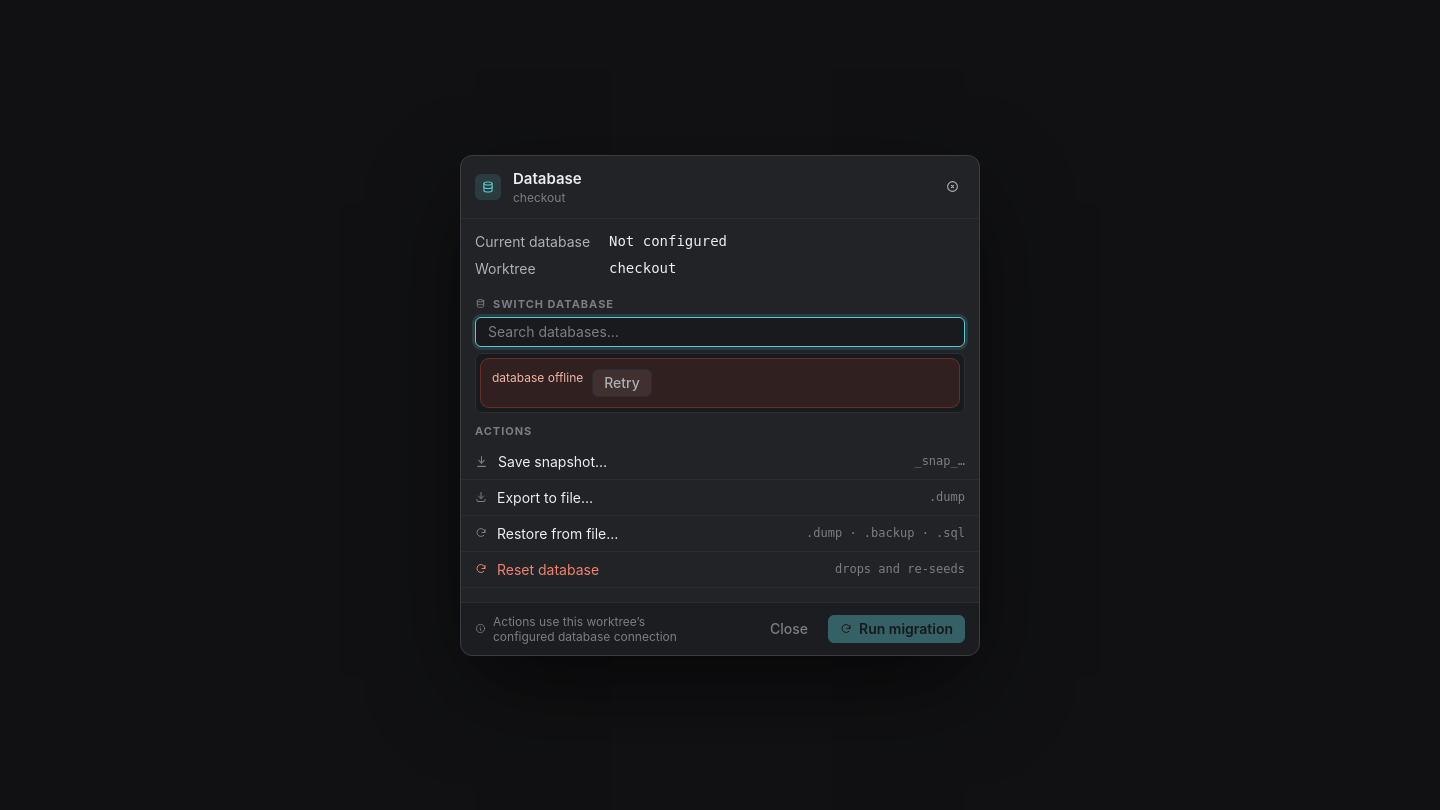
Scenario: keeps database actions disabled on a read failure and allows retry
This screenshot has width=1440, height=810.
expect the message "database offline Retry" is shown: met, box [480, 358, 960, 408]
expect the button "Run migration" is disabled: met, box [828, 614, 965, 642]
Click the button "Retry".
click(622, 382)  # box [592, 368, 652, 396]
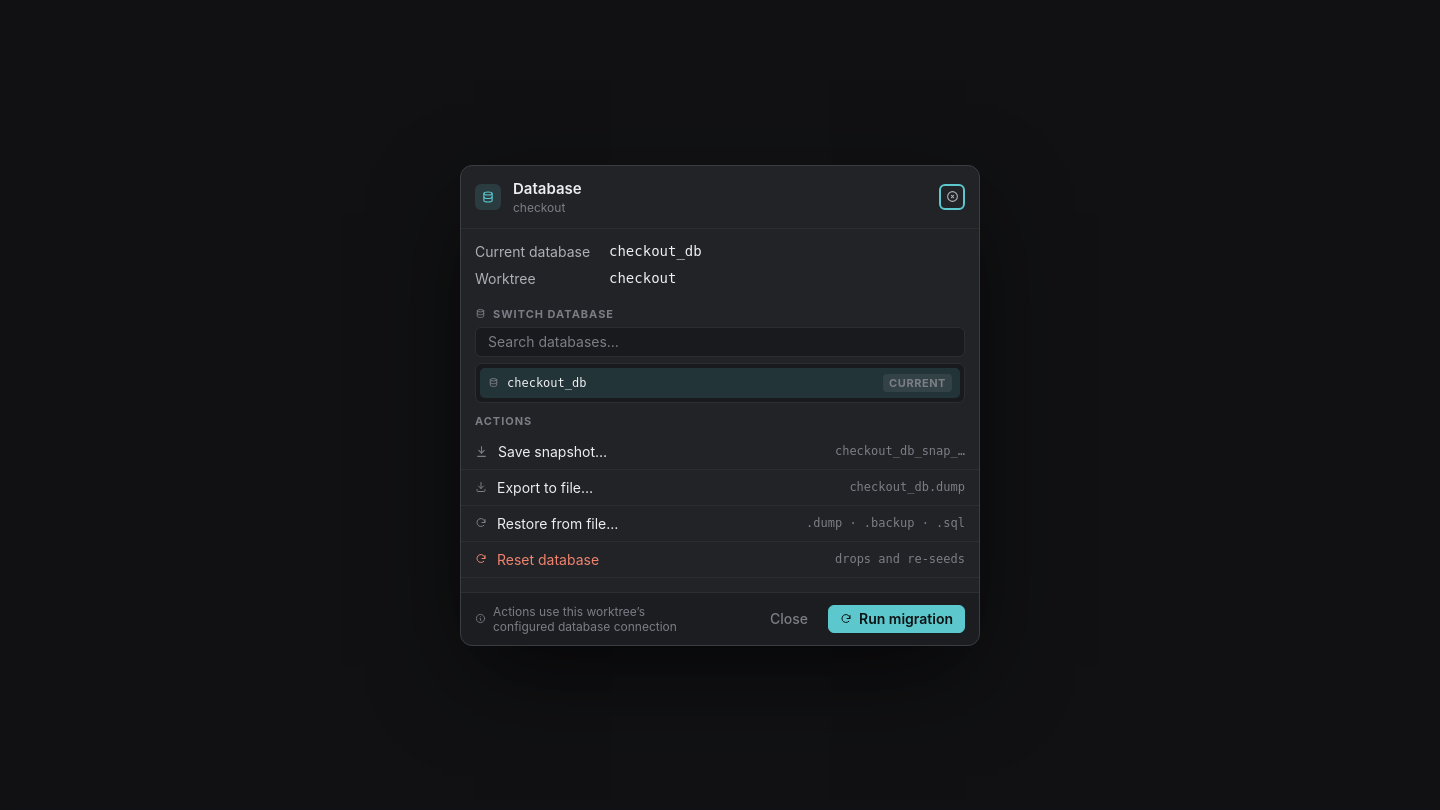
expect the button "Run migration" is enabled: met, box [828, 604, 965, 632]
